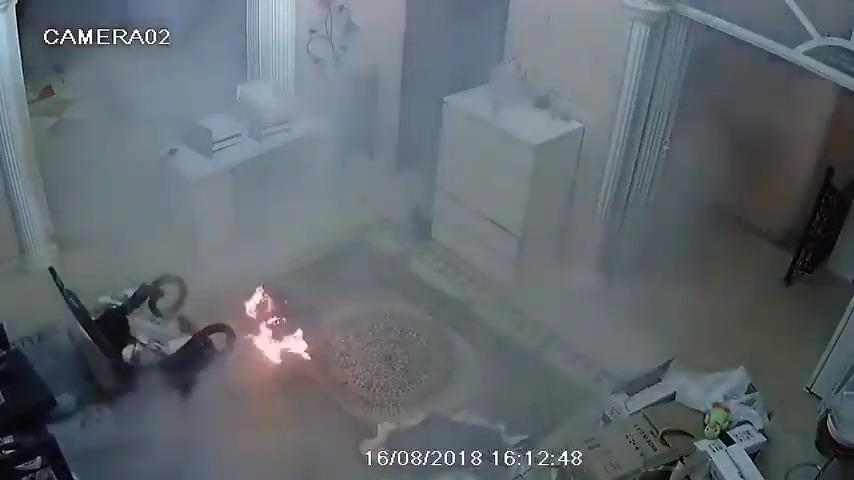fire: (244, 320, 311, 365), (245, 285, 286, 326)
